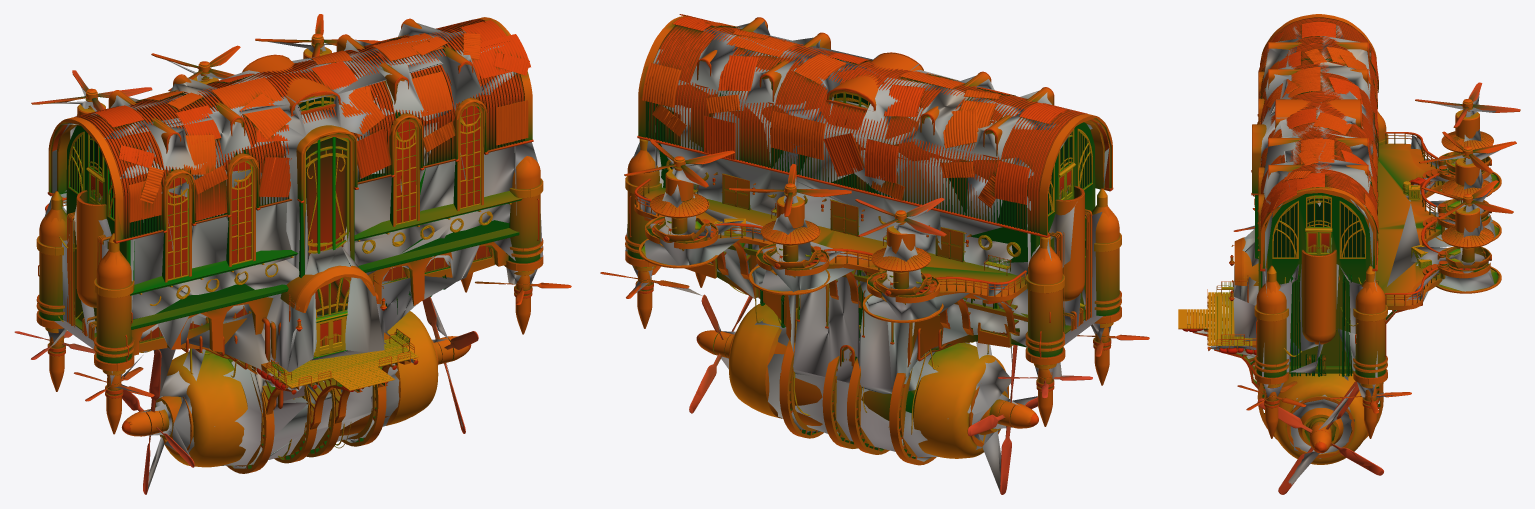
The model's file is KB3D_CSK_BldgSmPostOffice_A.glb.
3 renders of one model, left to right at view 1: azimuth 30°, elevation 25°; view 2: azimuth 150°, elevation 25°; view 3: azimuth 270°, elevation 25°, orthographic. The views are drawn at different scales.
Parts seen in each view (by area): view 1: L0, L2, L1; view 2: L0, L2, L1; view 3: L0, L1, L2.
Boxes of the visible parts, x1,y1,x2,y2 form: L0: (14,14,571,494); L2: (44,23,542,489); L1: (31,15,542,486); L0: (600,14,1149,494); L2: (625,21,1111,491); L1: (604,14,1142,485); L0: (1178,14,1520,494); L1: (1178,14,1519,494); L2: (1187,25,1499,484).
Size of the model in its own units: 33.76 by 26.03 by 23.75.
